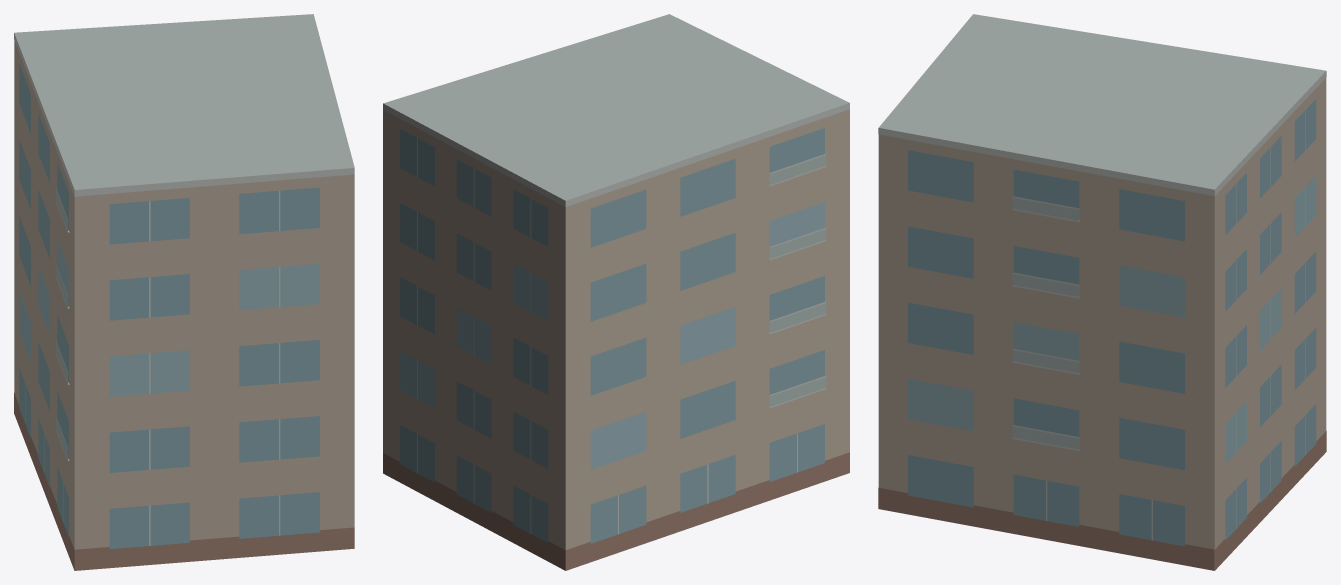
File: survey-upis-33017542.glb
The picture shows the model from 3 angles, left to right: view 1: azimuth 30°, elevation 25°; view 2: azimuth 150°, elevation 25°; view 3: azimuth 270°, elevation 25°; orthographic projection. The views are drawn at different scales.
Visible parts, largest first — view 1: survey-upis-33017542.tmp; view 2: survey-upis-33017542.tmp; view 3: survey-upis-33017542.tmp.
Boxes of the visible parts, <box> form: survey-upis-33017542.tmp: <box>14,14,354,570</box>; survey-upis-33017542.tmp: <box>383,14,849,570</box>; survey-upis-33017542.tmp: <box>878,14,1326,570</box>.
Bounding box in the file's own units: 14 × 14.15 × 15.08.
